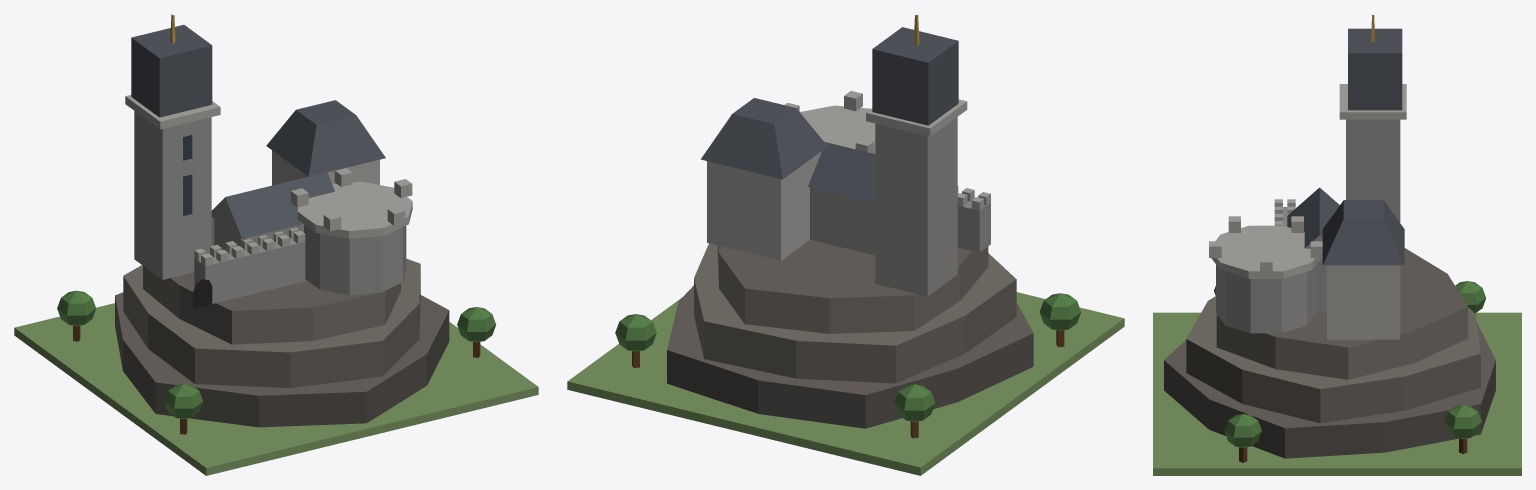
File: chateauEdimbourg.glb
The picture shows the model from 3 angles, left to right: view 1: azimuth 30°, elevation 25°; view 2: azimuth 150°, elevation 25°; view 3: azimuth 270°, elevation 25°; orthographic projection. The views are drawn at different scales.
Parts seen in each view (by area): view 1: chateauEdimbourg; view 2: chateauEdimbourg; view 3: chateauEdimbourg.
Part boxes in pixels (<box>): chateauEdimbourg: <box>14,14,538,475</box>; chateauEdimbourg: <box>567,15,1124,475</box>; chateauEdimbourg: <box>1153,15,1521,475</box>.
Bounding box in the file's own units: 1.76 × 1.81 × 1.76.
